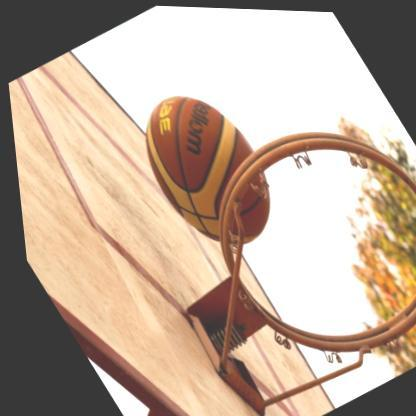basketball: (113, 71, 296, 266)
